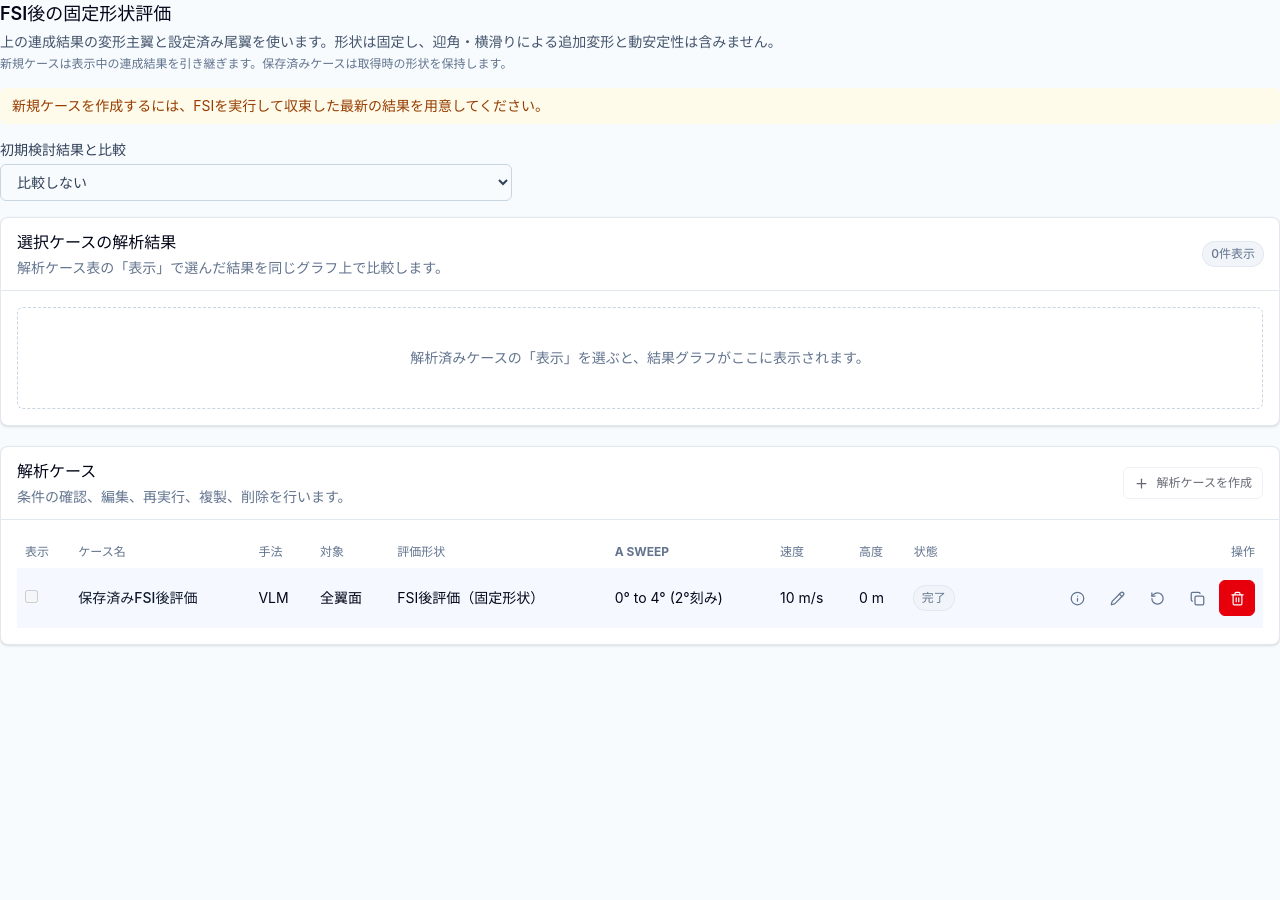
Test: FsiStabilityWorkspace › keeps saved frozen cases accessible even without their original FSI result
The width and height of the screenshot is (1280, 900).
Click the button named "保存済みFSI後評価を詳細表示" at coordinates (1077, 598), box top-left (1059, 580), bottom-right (1095, 616)
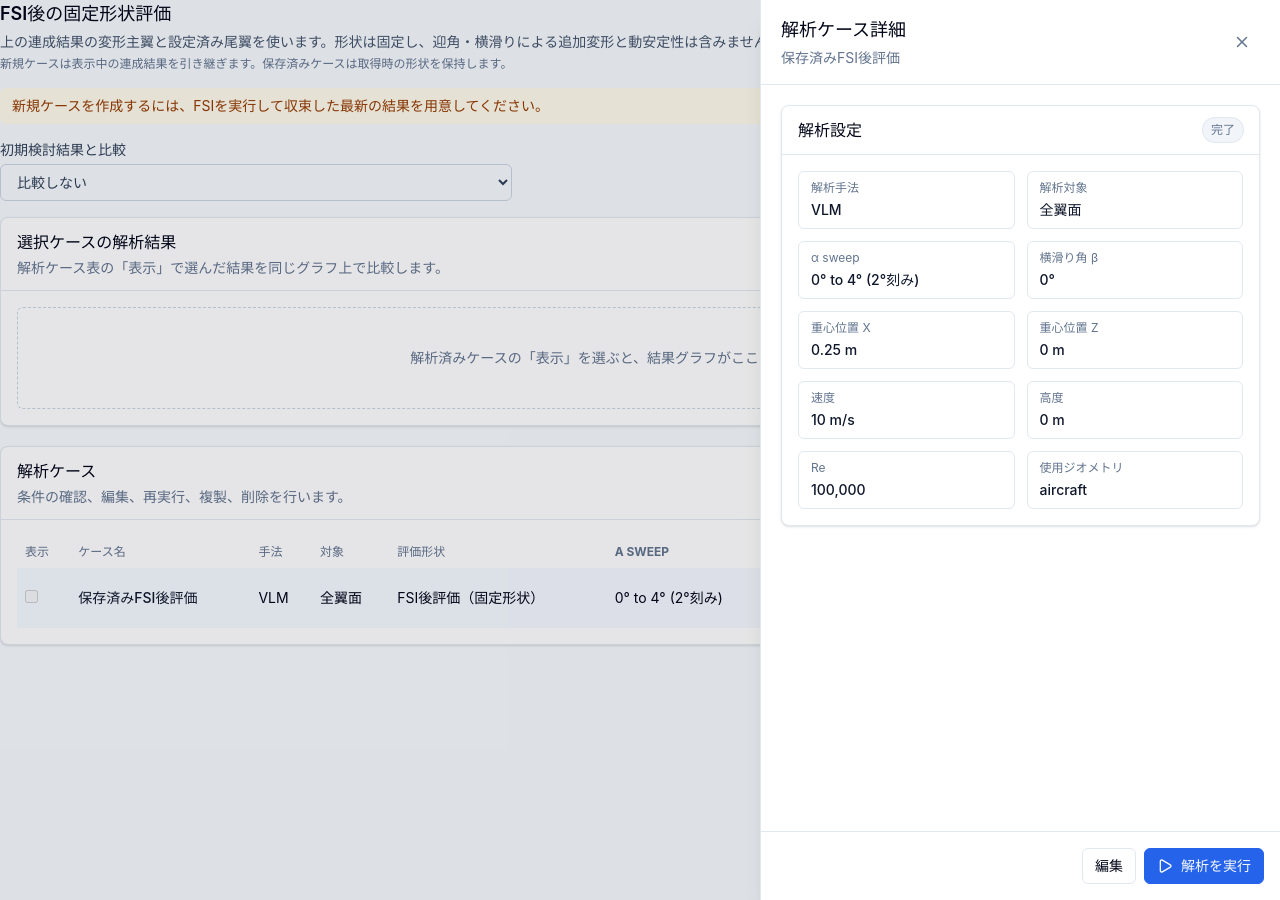
expect the dialog "解析ケース詳細" shows "保存済みFSI後評価": met, box top-left (781, 49), bottom-right (900, 66)
